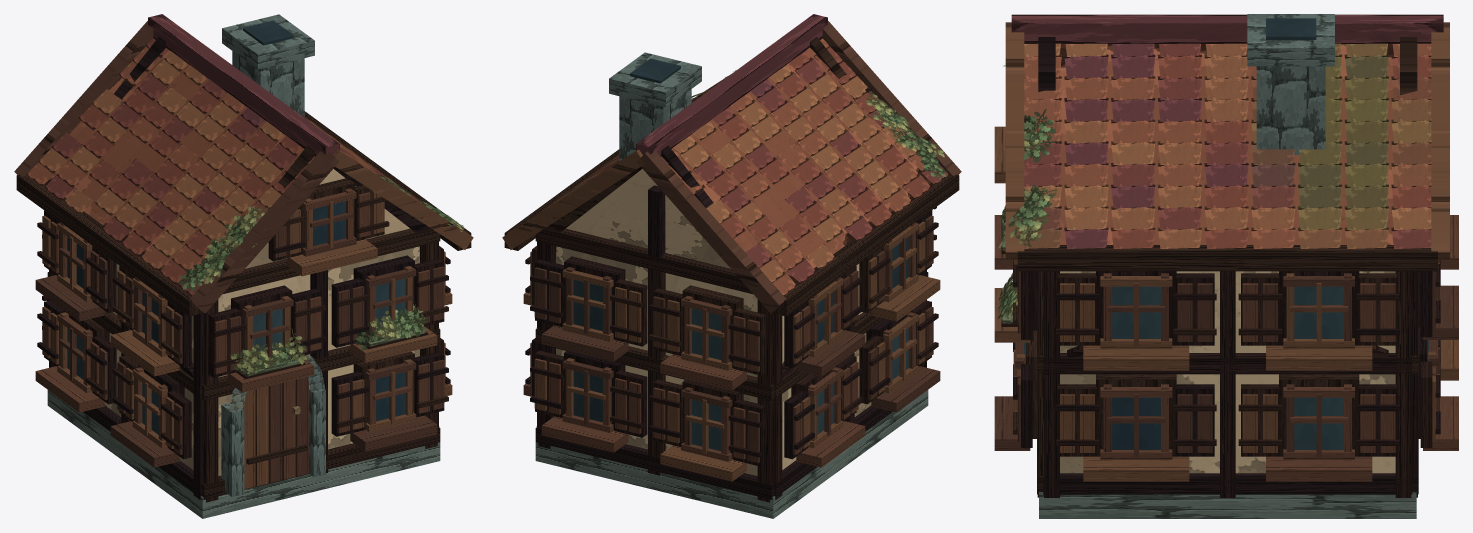
File: cottage_small.glb
3 views of the same model, side by side, from view 1: azimuth 30°, elevation 25°; view 2: azimuth 150°, elevation 25°; view 3: azimuth 270°, elevation 25° (orthographic). The views are drawn at different scales.
Parts seen in each view (by area): view 1: cottage_small; view 2: cottage_small; view 3: cottage_small.
Boxes of the visible parts, <box> form: cottage_small: <box>14,14,473,518</box>; cottage_small: <box>502,14,961,518</box>; cottage_small: <box>994,14,1458,518</box>.
Bounding box in the file's own units: 2.92 × 3.47 × 3.27.
6 materials, 6 textured.
